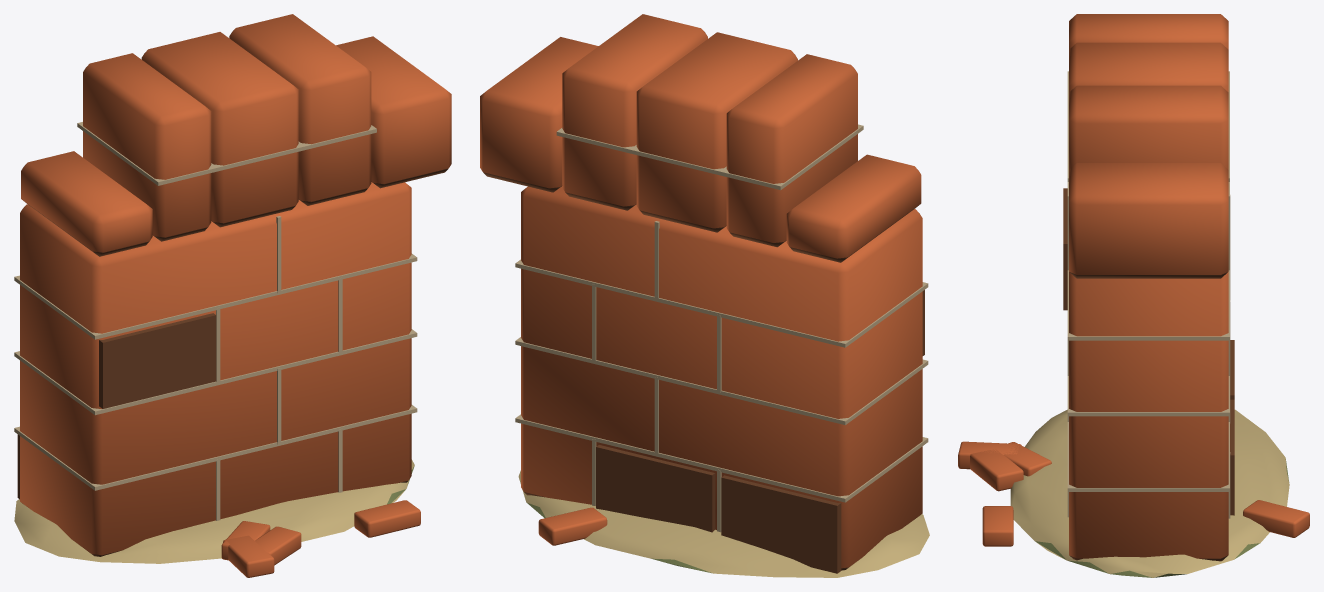
Rendered from BrickWallB.fbx.
3 views of the same model, side by side, from view 1: azimuth 30°, elevation 25°; view 2: azimuth 150°, elevation 25°; view 3: azimuth 270°, elevation 25° (orthographic). The views are drawn at different scales.
Parts seen in each view (by area): view 1: BrickWallB; view 2: BrickWallB; view 3: BrickWallB.
Boxes of the visible parts, box(x1,y1,x2,y2) form: BrickWallB: box(14, 14, 451, 577); BrickWallB: box(480, 14, 929, 577); BrickWallB: box(958, 14, 1309, 577).
Bounding box in the file's own units: 1.76 × 1.84 × 1.37.
1 material, 1 textured.
